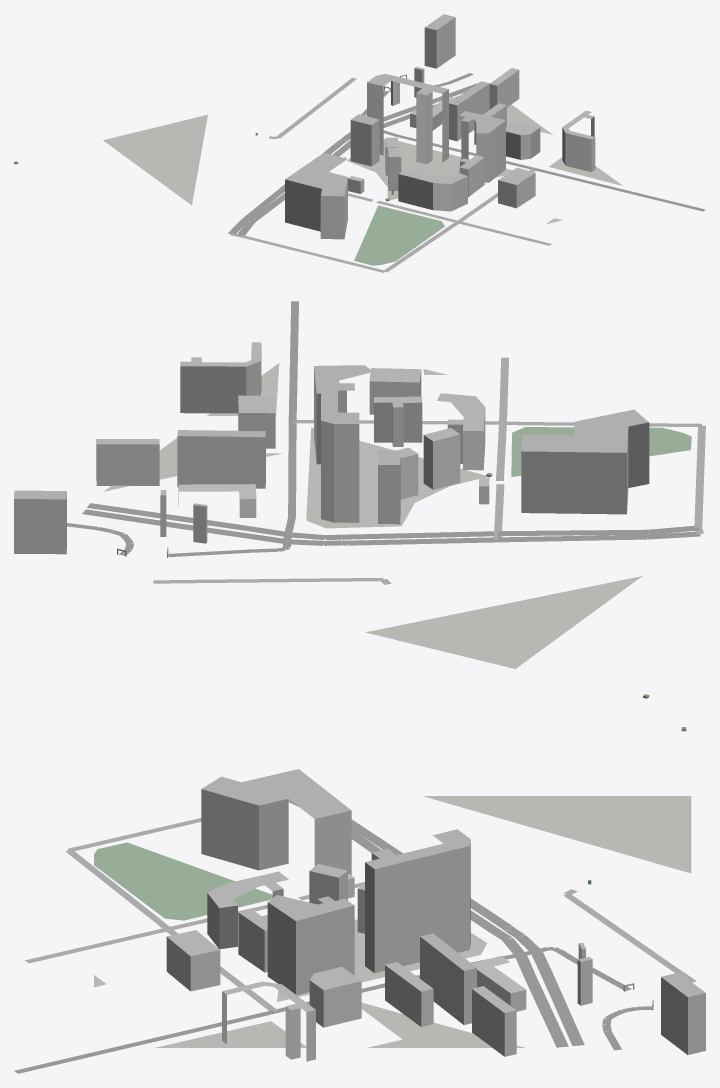
3 views of the same model, one above another, from view 1: azimuth 30°, elevation 25°; view 2: azimuth 150°, elevation 25°; view 3: azimuth 270°, elevation 25° (orthographic). The views are drawn at different scales.
Size of the model in its own units: 686 by 96.51 by 579.
